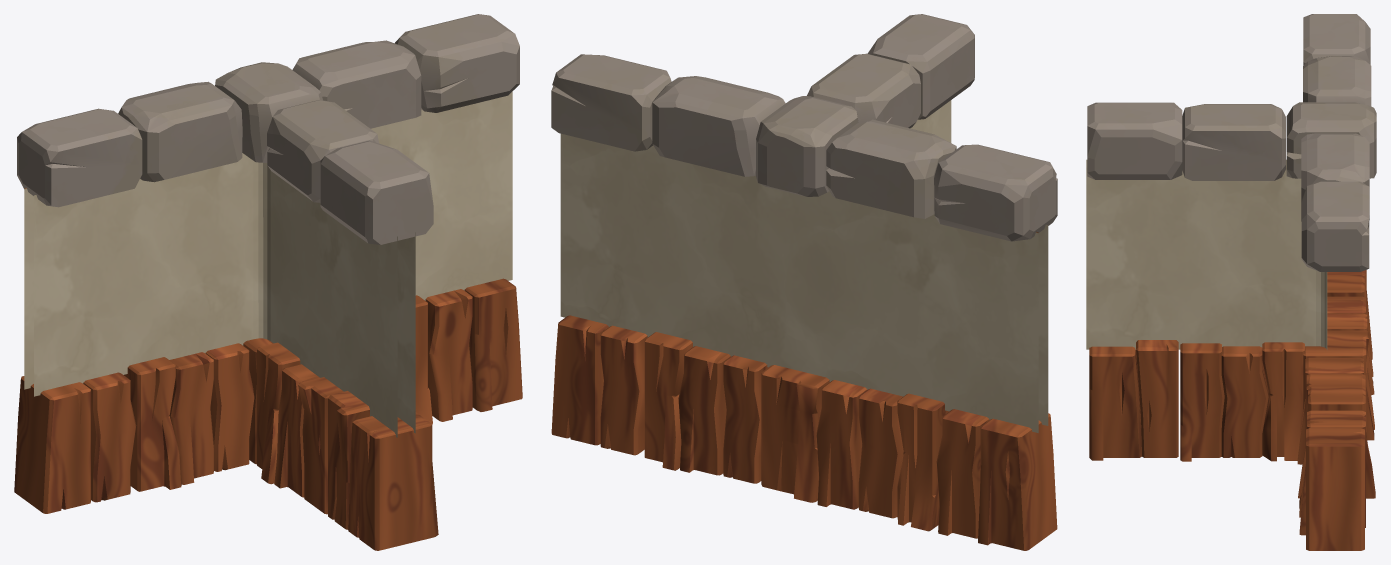
The model's file is SM_WallAngle_03.fbx.
3 views of the same model, side by side, from view 1: azimuth 30°, elevation 25°; view 2: azimuth 150°, elevation 25°; view 3: azimuth 270°, elevation 25° (orthographic). The views are drawn at different scales.
Parts seen in each view (by area): view 1: SM_WallAngle_03; view 2: SM_WallAngle_03; view 3: SM_WallAngle_03.
Boxes of the visible parts, left/top/right/bottom form: SM_WallAngle_03: left=14, top=14, right=522, bottom=550; SM_WallAngle_03: left=551, top=14, right=1057, bottom=550; SM_WallAngle_03: left=1086, top=14, right=1376, bottom=550.
Bounding box in the file's own units: 504 × 371 × 293.
